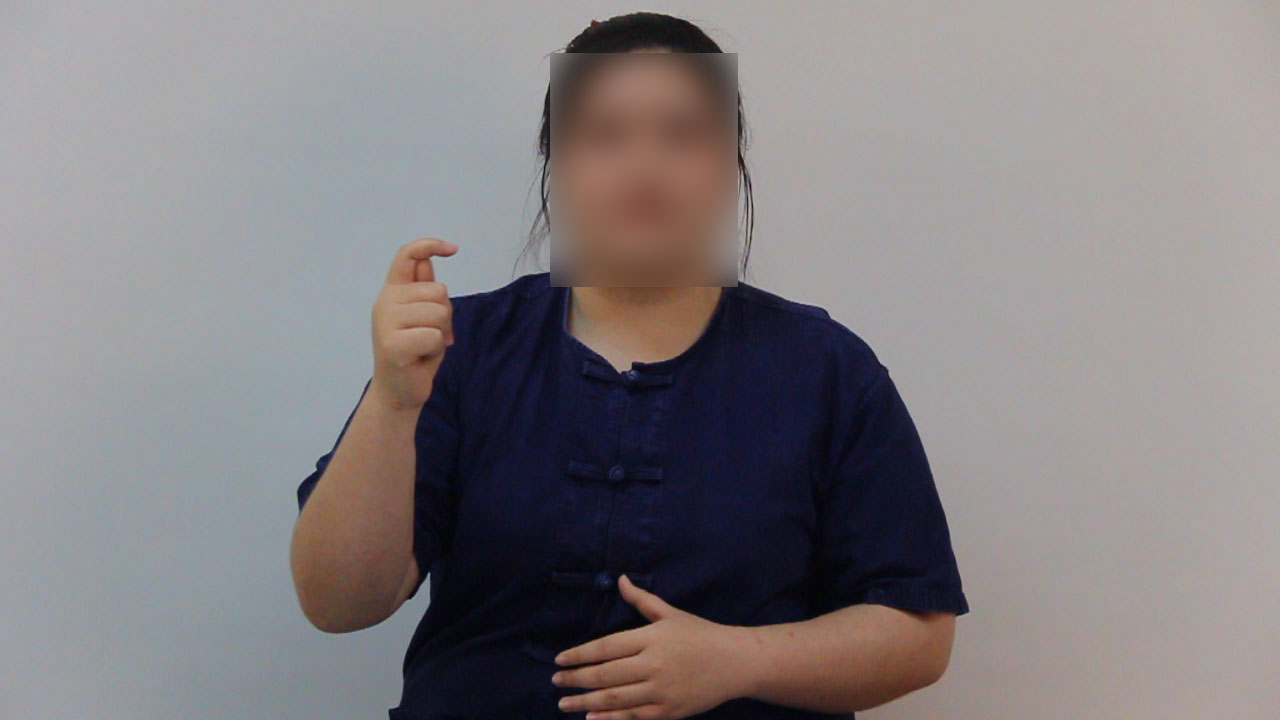or: (364, 231, 467, 417)
